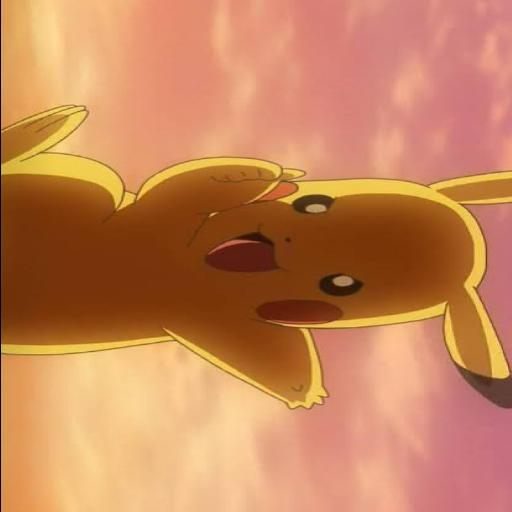Pikachu: (0, 104, 512, 410)
